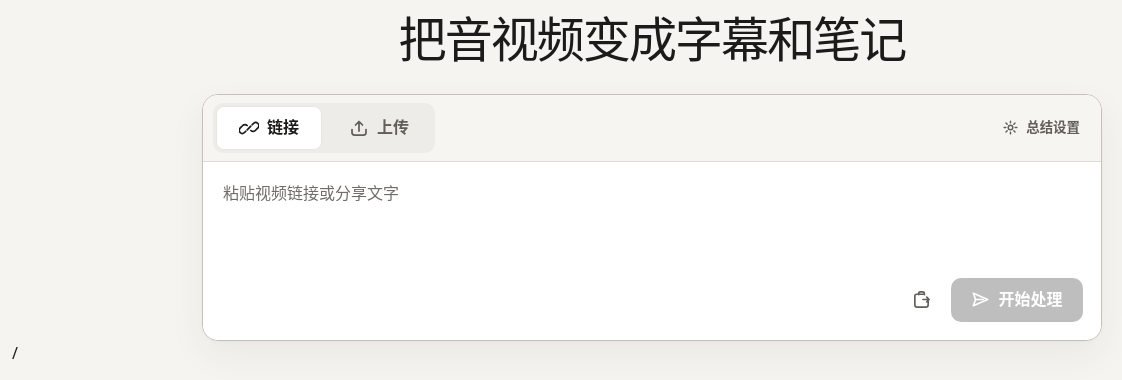
Scenario: CreateTaskPage › submits the complete pipeline when an authorized notes profile exists
Expected: the tab "链接" is shown, [216,106,322,150]
In the text box named "视频链接或分享文本": (652, 219) [221,180,1083,259], type "https://www.bilibili.com/video/BV1x"
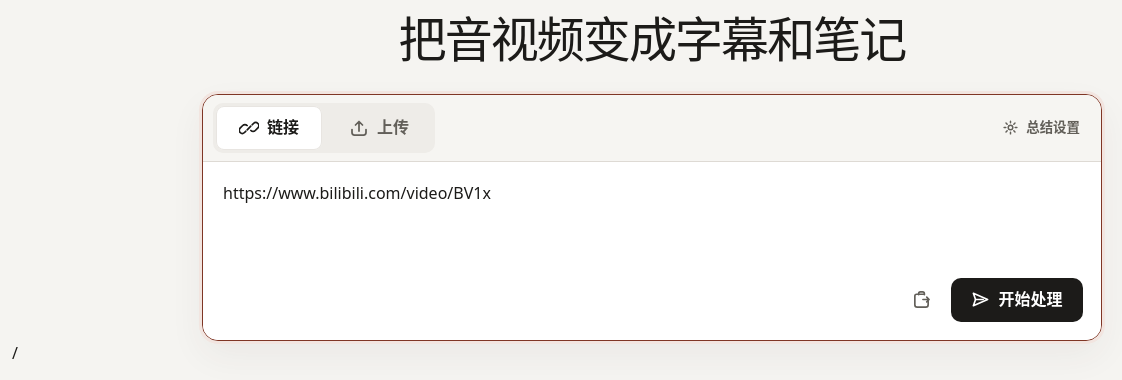
Click the button "开始处理": (1017, 300) [951,278,1083,322]
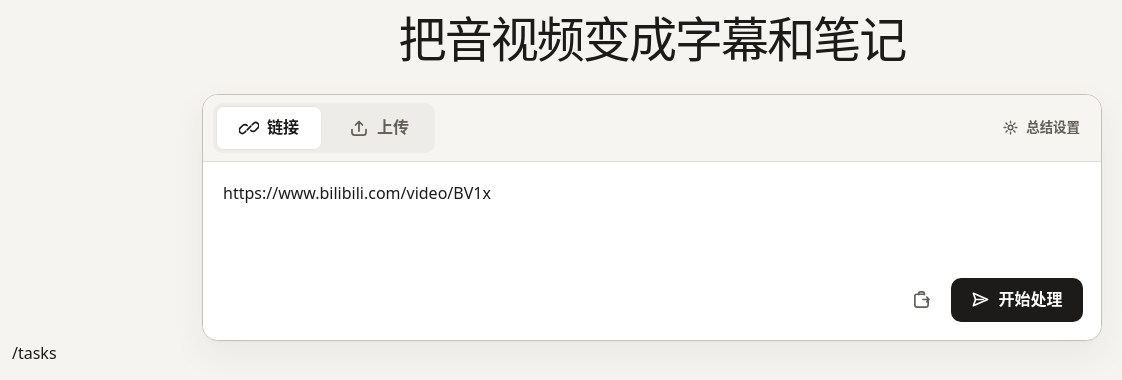
Result: the text with test id "current-path" reads "/tasks" at [12,342,57,364]
